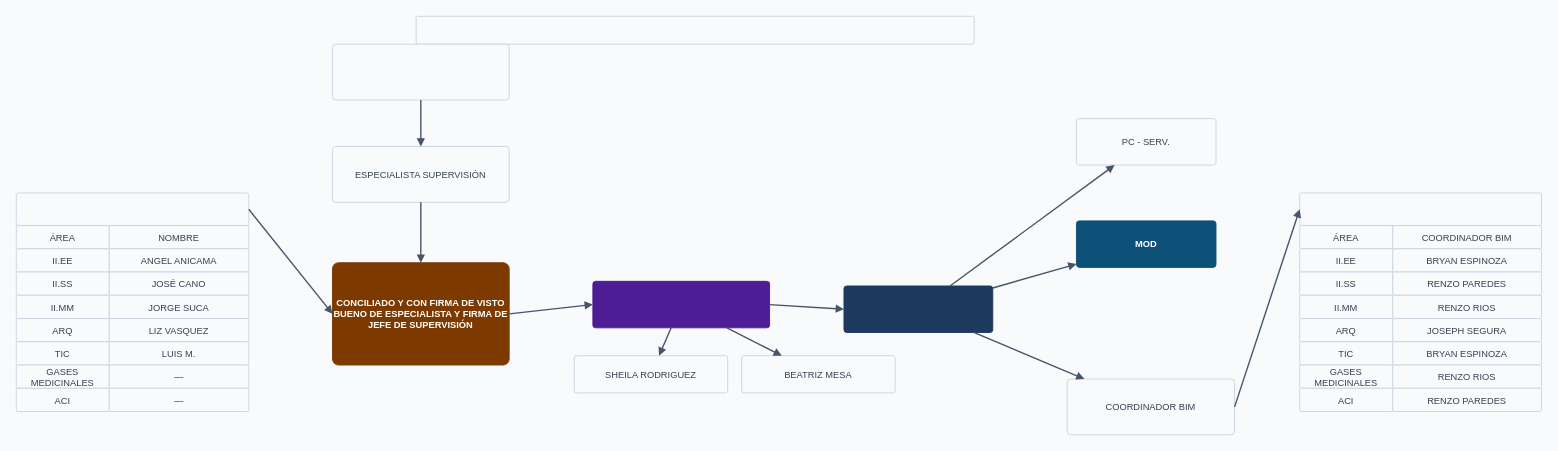
The diagram is 1558 pixels wide and 451 high, and some of its shapes have lost their labels. The centre of each missing label's shape, as x and y in pixels:
BIM POR ÁREA: point 1420,209
CONTROL DOCUMENTARIO: point 681,304
ESPECIALISTA COSAPI: point 420,71
ESPECIALISTA POR ÁREA: point 132,209
ESPECIALISTAS: point 918,308
FLUJOGRAMA ELABORACIÓN SKETCH — THSSB: point 694,29
